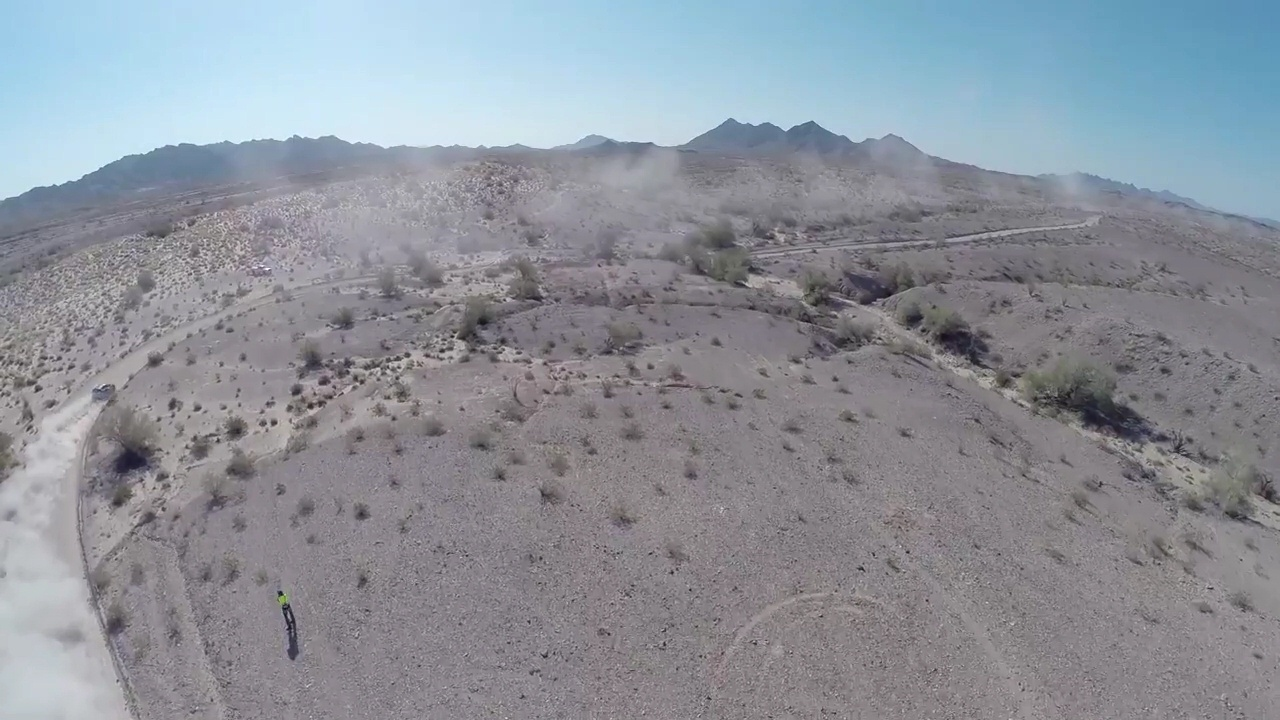insan: (278, 587, 301, 641)
